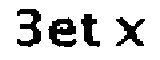3: (14, 3, 45, 52)
e: (45, 14, 78, 50)
t: (78, 11, 103, 50)
x: (110, 14, 146, 51)
